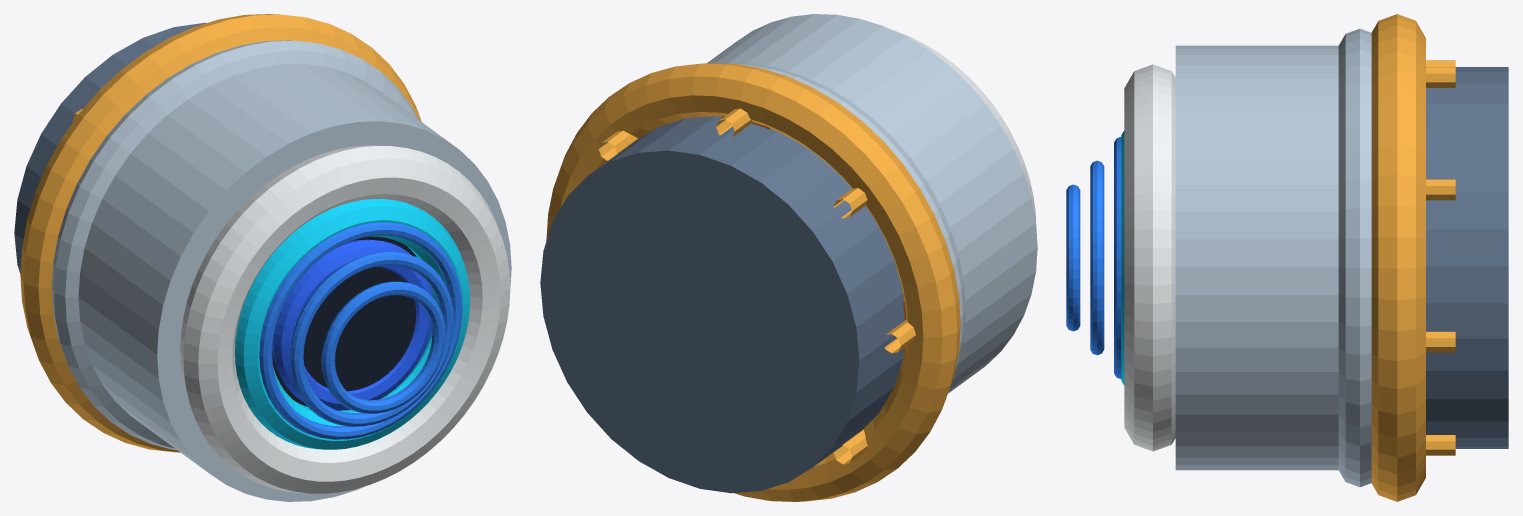
The model's file is 34_L90_HallThrusterC.fbx.
The picture shows the model from 3 angles, left to right: view 1: azimuth 30°, elevation 25°; view 2: azimuth 150°, elevation 25°; view 3: azimuth 270°, elevation 25°; orthographic projection. The views are drawn at different scales.
Parts seen in each view (by area): view 1: L90_HallThrusterC_Part_0002, L90_HallThrusterC_Part_0004, L90_HallThrusterC_Part_0001, L90_HallThrusterC_Part_0010, L90_HallThrusterC_Part_0005, L90_HallThrusterC_Part_0003, L90_HallThrusterC_Part_0006, L90_HallThrusterC; view 2: L90_HallThrusterC, L90_HallThrusterC_Part_0002, L90_HallThrusterC_Part_0001, L90_HallThrusterC_Part_0007, L90_HallThrusterC_Part_0004; view 3: L90_HallThrusterC_Part_0002, L90_HallThrusterC, L90_HallThrusterC_Part_0001, L90_HallThrusterC_Part_0004, L90_HallThrusterC_Part_0010, L90_HallThrusterC_Part_0007, L90_HallThrusterC_Part_0005.
Part boxes in pixels (bbox=[...]): L90_HallThrusterC_Part_0002: bbox=[51, 40, 511, 501]; L90_HallThrusterC_Part_0004: bbox=[180, 145, 510, 493]; L90_HallThrusterC_Part_0001: bbox=[20, 14, 421, 452]; L90_HallThrusterC_Part_0010: bbox=[259, 222, 462, 439]; L90_HallThrusterC_Part_0005: bbox=[235, 199, 470, 449]; L90_HallThrusterC_Part_0003: bbox=[272, 236, 416, 406]; L90_HallThrusterC_Part_0006: bbox=[272, 239, 432, 410]; L90_HallThrusterC: bbox=[14, 22, 206, 273]; L90_HallThrusterC: bbox=[540, 116, 904, 493]; L90_HallThrusterC_Part_0002: bbox=[707, 14, 1037, 393]; L90_HallThrusterC_Part_0001: bbox=[546, 63, 960, 501]; L90_HallThrusterC_Part_0007: bbox=[598, 108, 915, 464]; L90_HallThrusterC_Part_0004: bbox=[893, 30, 1035, 220]; L90_HallThrusterC_Part_0002: bbox=[1175, 28, 1371, 487]; L90_HallThrusterC: bbox=[1426, 67, 1508, 448]; L90_HallThrusterC_Part_0001: bbox=[1371, 14, 1425, 501]; L90_HallThrusterC_Part_0004: bbox=[1124, 64, 1175, 451]; L90_HallThrusterC_Part_0010: bbox=[1066, 137, 1121, 378]; L90_HallThrusterC_Part_0007: bbox=[1426, 60, 1455, 455]; L90_HallThrusterC_Part_0005: bbox=[1121, 130, 1124, 385].
Size of the model in its own units: 184 by 184 by 167.
